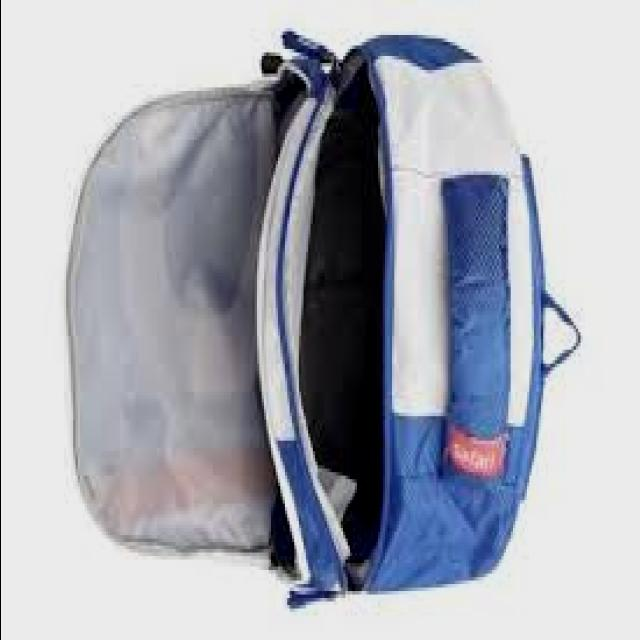backpack: (67, 30, 583, 610)
